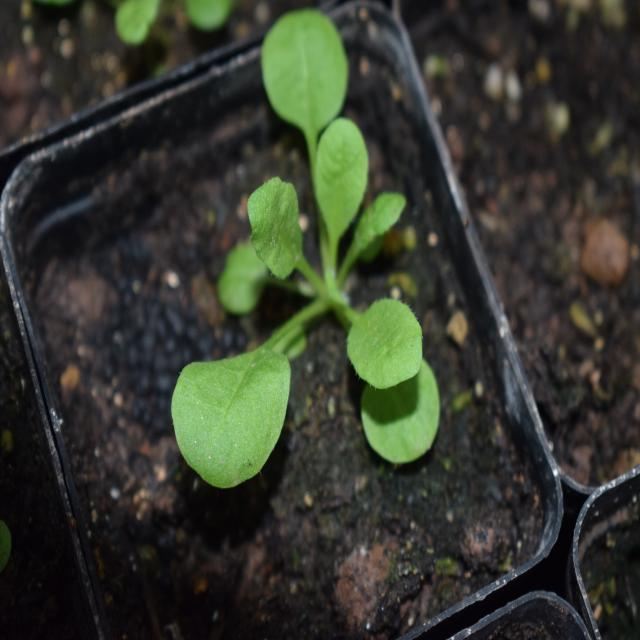Shepherd_Purse: (165, 0, 459, 496)
